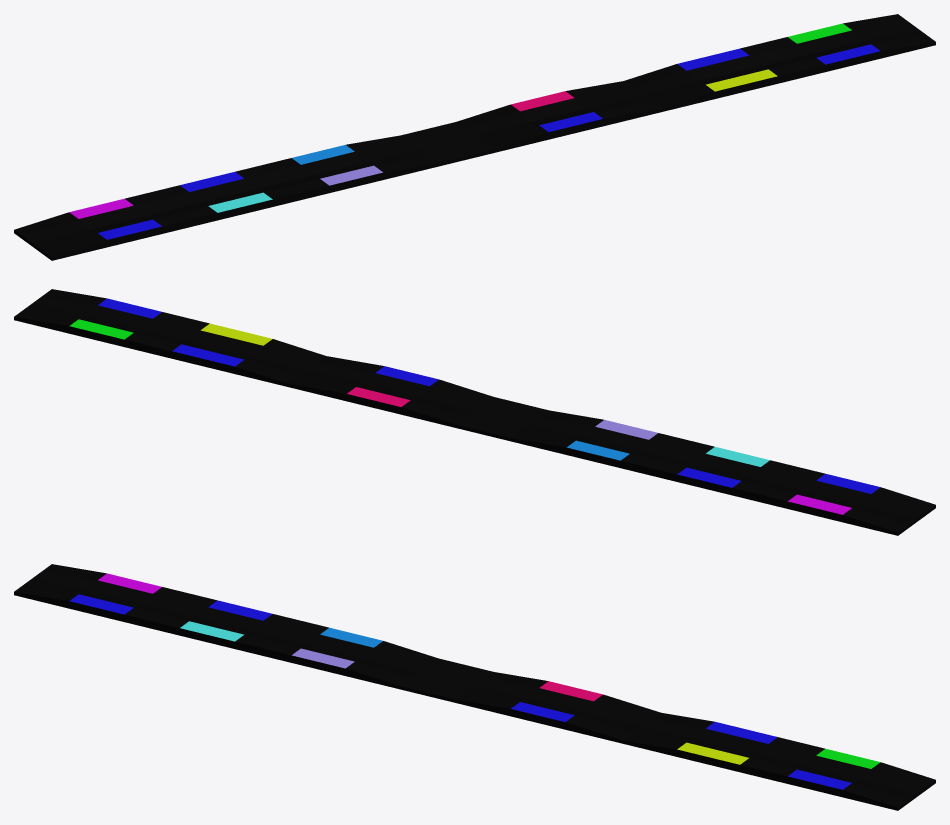
The model's file is party_long_light.fbx.
The picture shows the model from 3 angles, top to bottom: view 1: azimuth 30°, elevation 25°; view 2: azimuth 150°, elevation 25°; view 3: azimuth 330°, elevation 25°; orthographic projection.
Visible parts, largest first — view 1: Cube; view 2: Cube; view 3: Cube.
Boxes of the visible parts, <box> form: Cube: <box>14,14,935,260</box>; Cube: <box>14,289,935,535</box>; Cube: <box>14,564,935,810</box>.
Bounding box in the file's own units: 331 × 2.69 × 24.56.
